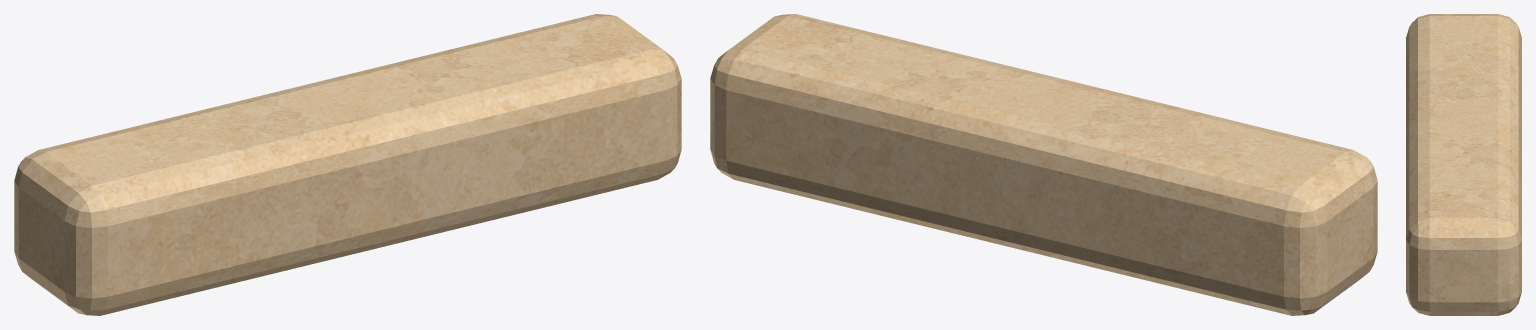
File: edge.glb
3 views of the same model, side by side, from view 1: azimuth 30°, elevation 25°; view 2: azimuth 150°, elevation 25°; view 3: azimuth 270°, elevation 25° (orthographic). The views are drawn at different scales.
Parts seen in each view (by area): view 1: Rounded courtyard edge; view 2: Rounded courtyard edge; view 3: Rounded courtyard edge.
Boxes of the visible parts, <box> form: Rounded courtyard edge: <box>14,14,681,315</box>; Rounded courtyard edge: <box>710,14,1377,315</box>; Rounded courtyard edge: <box>1406,14,1521,315</box>.
Bounding box in the file's own units: 1 × 0.2 × 0.22.
1 material, 1 textured.
